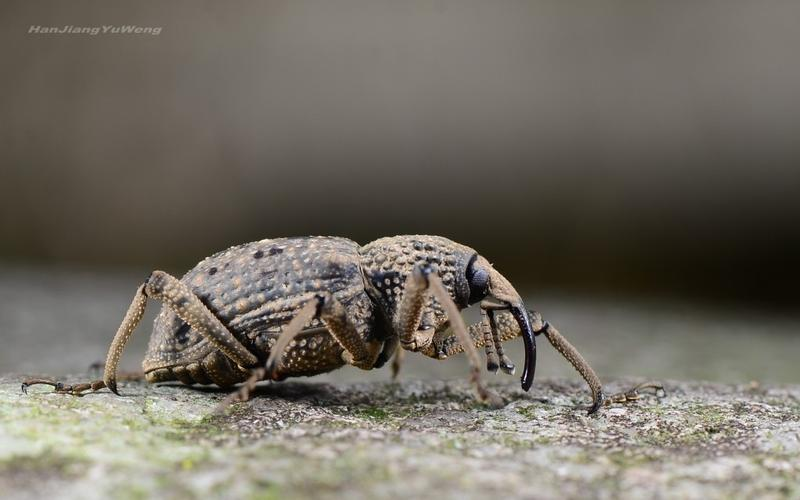Curculionidae: (21, 234, 605, 418)
